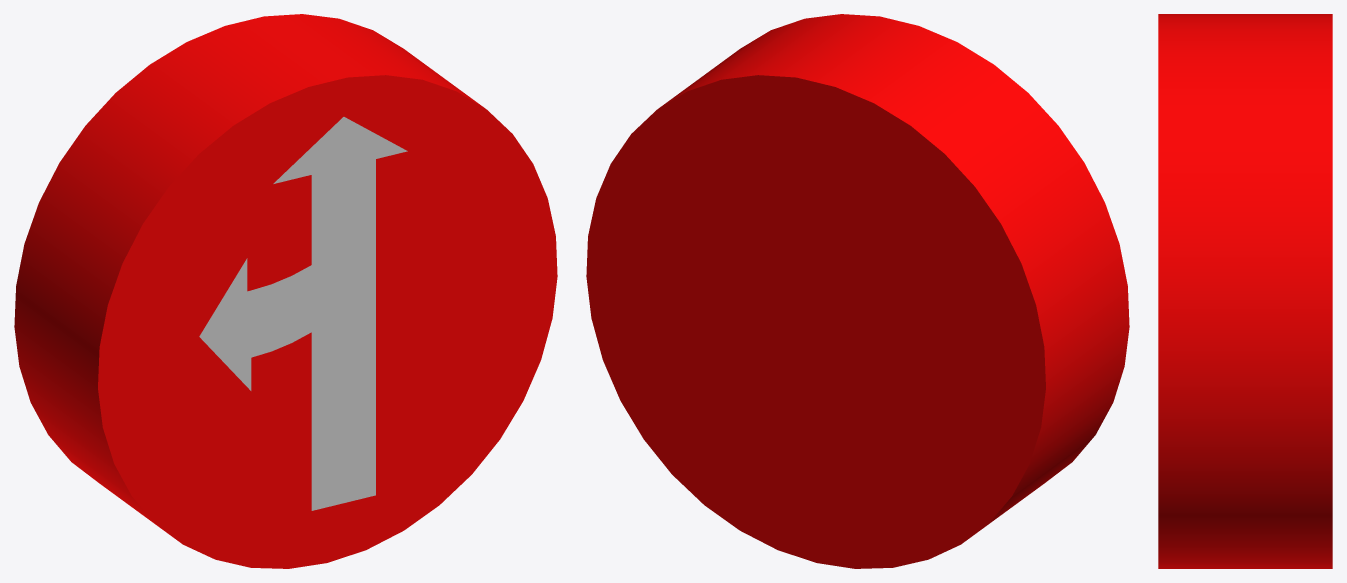
3 renders of one model, left to right at view 1: azimuth 30°, elevation 25°; view 2: azimuth 150°, elevation 25°; view 3: azimuth 270°, elevation 25°, orthographic. The views are drawn at different scales.
Visible parts, largest first — view 1: Surface 66, Surface 60; view 2: Surface 66; view 3: Surface 66.
Part boxes in pixels (<box>): Surface 66: <box>14,14,557,568</box>; Surface 60: <box>199,117,407,510</box>; Surface 66: <box>586,14,1129,568</box>; Surface 66: <box>1158,14,1332,568</box>.
Bounding box in the file's own units: 0.0107 × 0.0107 × 0.00337.
